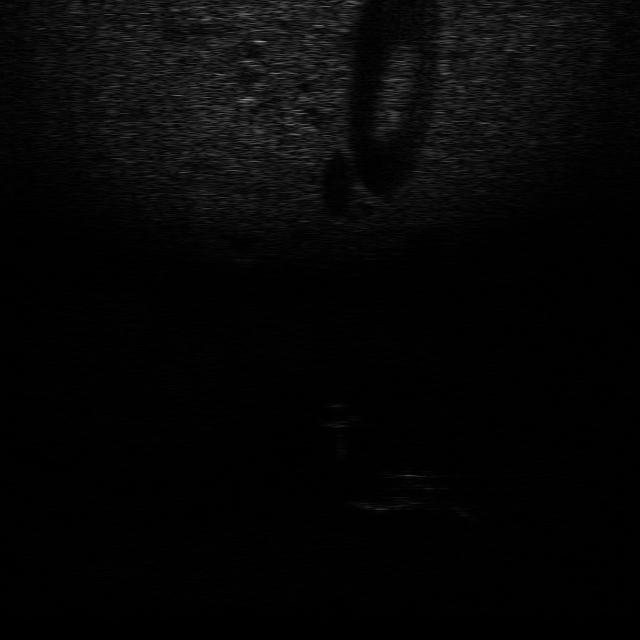ball: (315, 398, 365, 430)
tyre: (347, 469, 442, 512)
